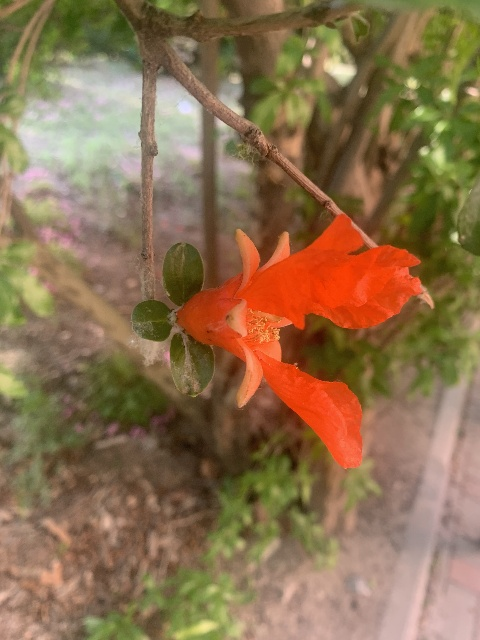flower: (177, 213, 423, 469)
